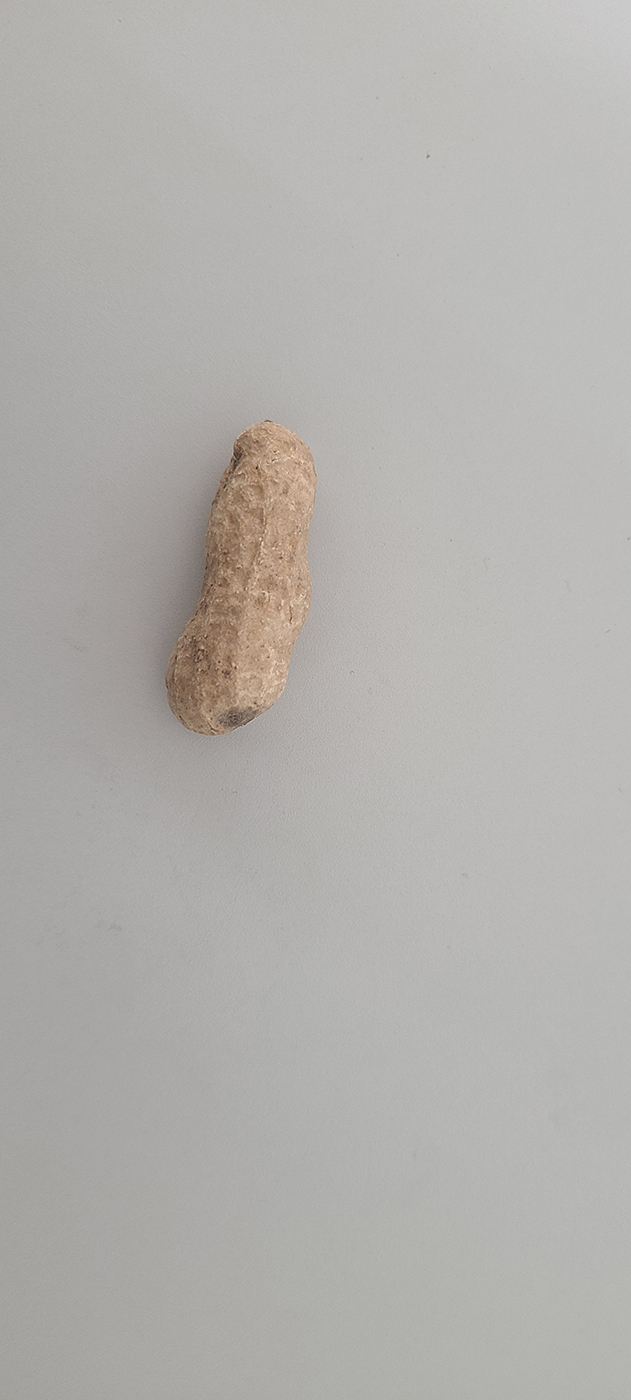h: (162, 421, 319, 737)
